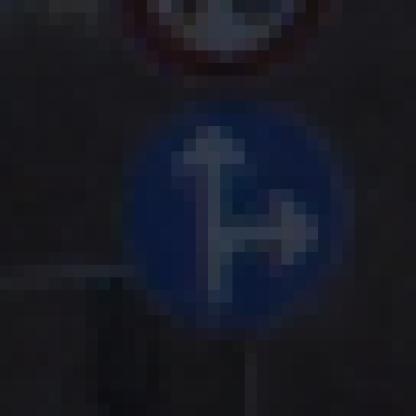Straight or Right: (74, 64, 356, 354)
